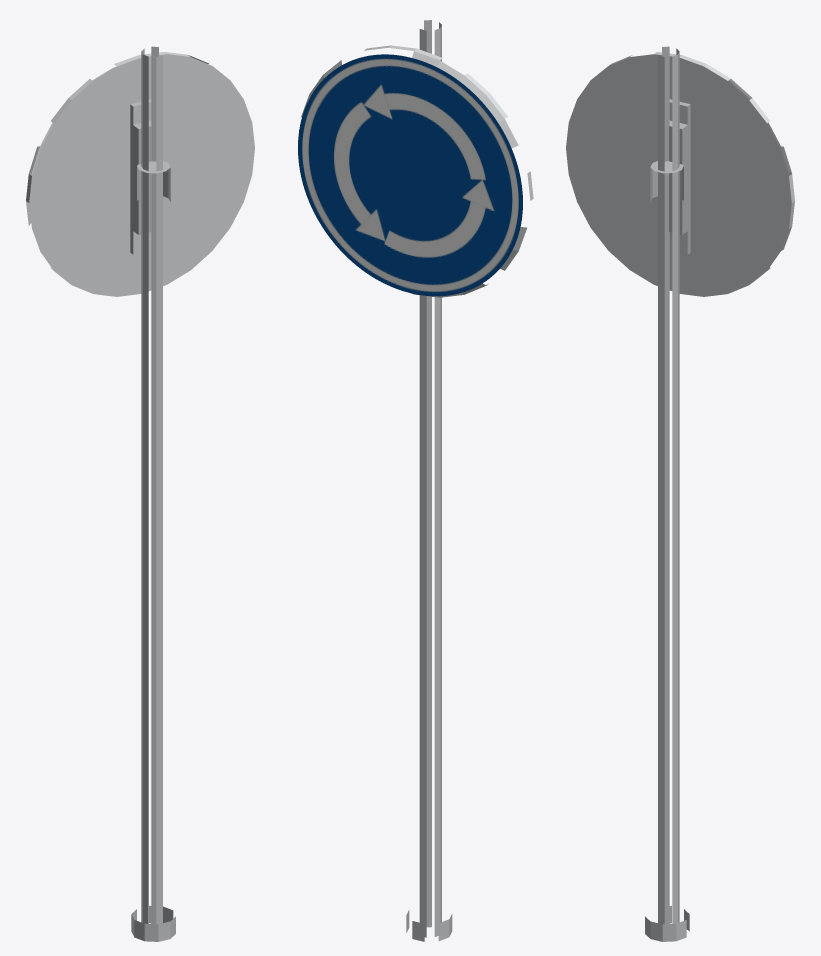
Rendered from sign_roundabout.glb.
The picture shows the model from 3 angles, left to right: view 1: azimuth 30°, elevation 25°; view 2: azimuth 150°, elevation 25°; view 3: azimuth 330°, elevation 25°; orthographic projection. The views are drawn at different scales.
Parts seen in each view (by area): view 1: sign_roundabout; view 2: sign_roundabout; view 3: sign_roundabout.
Part boxes in pixels (x1,y1,x2,y2): sign_roundabout: (26, 46, 254, 941); sign_roundabout: (298, 20, 533, 941); sign_roundabout: (566, 46, 794, 941).
Size of the model in its own units: 0.72 by 2.49 by 0.1487.
5 materials, 1 textured.
